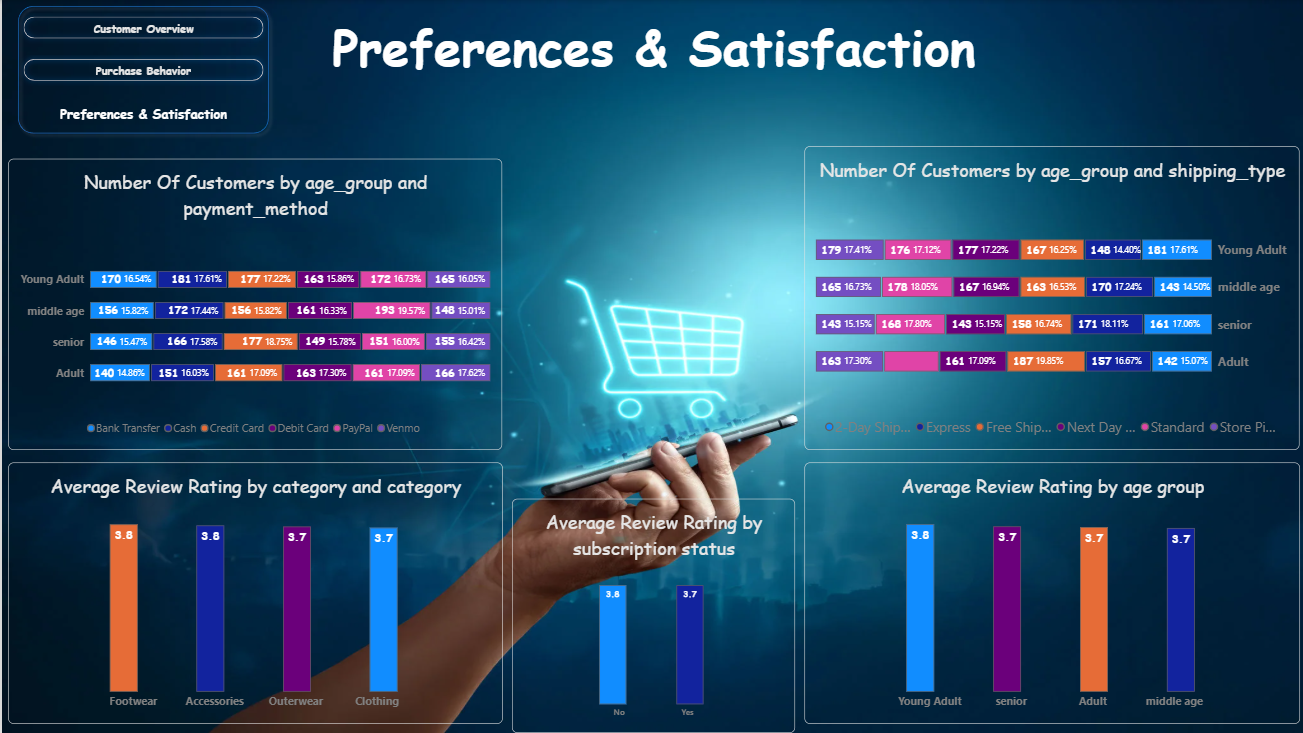

What the dashboard file says about the page in this screenshot:
{"tool":"powerbi","page":{"name":"Preferences & Satisfaction","canvas":[1920,1080],"ordinal":2},"visuals":[{"type":"hundredPercentStackedBarChart","fields":{"Category":["customer_shopping_behavior.age_group"],"Series":["customer_shopping_behavior.payment_method"],"Y":["customer_shopping_behavior.Number Of Customers"]},"box":[9.2,233.7,727,428.8],"z":0},{"type":"hundredPercentStackedBarChart","fields":{"Category":["customer_shopping_behavior.age_group"],"Series":["customer_shopping_behavior.shipping_type"],"Y":["customer_shopping_behavior.Number Of Customers"]},"box":[1181.6,215.3,728.8,447.2],"z":1000},{"type":"clusteredColumnChart","fields":{"Category":["customer_shopping_behavior.category"],"Series":["customer_shopping_behavior.category"],"Y":["customer_shopping_behavior.Average Review Rating"]},"box":[9.3,681.5,727.8,385.2],"z":2000},{"type":"clusteredColumnChart","title":"Average Review Rating by age group","fields":{"Category":["customer_shopping_behavior.age_group"],"Series":["customer_shopping_behavior.age_group"],"Y":["customer_shopping_behavior.Average Review Rating"]},"box":[1181.5,681.5,729.6,385.2],"z":3000},{"type":"clusteredColumnChart","title":"Average Review Rating by subscription status ","fields":{"Category":["customer_shopping_behavior.subscription_status"],"Series":["customer_shopping_behavior.subscription_status"],"Y":["customer_shopping_behavior.Average Review Rating"]},"box":[750.9,735.2,416.7,344.4],"z":4000},{"type":"textbox","box":[0,0,1919.6,215.3],"z":5000},{"type":"shape","box":[14.8,0,387,205.6],"z":6001},{"type":"pageNavigator","box":[24.1,16.7,369.5,173.5],"z":6002}]}

Visuals, with their boxes in screenshot pixels (x1, y1, x2, y2), scaled from the page's 1920x1080 canvas onto the 1303x733 screenshot:
hundredPercentStackedBarChart - customer_shopping_behavior.age_group x customer_shopping_behavior.payment_method: <box>6,159,500,450</box>
hundredPercentStackedBarChart - customer_shopping_behavior.age_group x customer_shopping_behavior.shipping_type: <box>802,146,1296,450</box>
clusteredColumnChart - customer_shopping_behavior.category x customer_shopping_behavior.category: <box>6,463,500,724</box>
"Average Review Rating by age group" clusteredColumnChart: <box>802,463,1297,724</box>
"Average Review Rating by subscription status " clusteredColumnChart: <box>510,499,792,732</box>
textbox: <box>0,0,1302,146</box>
shape: <box>10,0,273,140</box>
pageNavigator: <box>16,11,267,129</box>
